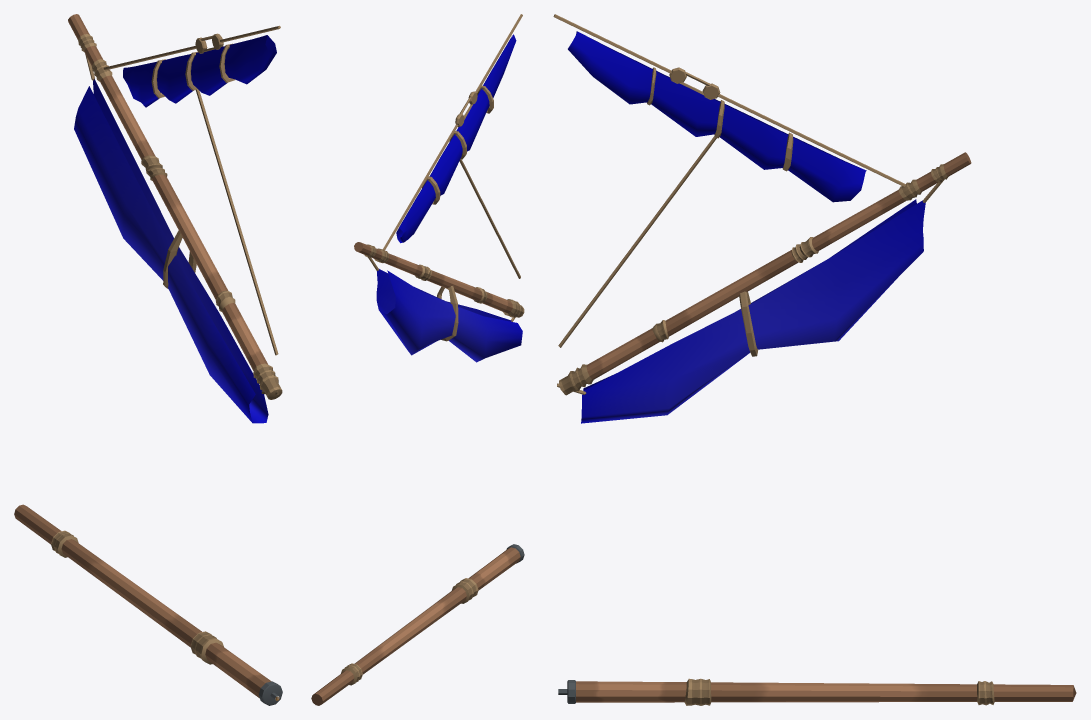
The model's file is SM_Veh_Ship_M_Mast_Back_01_Boom_Back_01_Tied_01.fbx.
3 views of the same model, side by side, from view 1: azimuth 30°, elevation 25°; view 2: azimuth 150°, elevation 25°; view 3: azimuth 270°, elevation 25° (orthographic). The views are drawn at different scales.
Parts seen in each view (by area): view 1: SM_Veh_Ship_M_Mast_Back_01_Boom_Back_01_Tied_01; view 2: SM_Veh_Ship_M_Mast_Back_01_Boom_Back_01_Tied_01; view 3: SM_Veh_Ship_M_Mast_Back_01_Boom_Back_01_Tied_01.
Boxes of the visible parts, x1,y1,x2,y2 form: SM_Veh_Ship_M_Mast_Back_01_Boom_Back_01_Tied_01: [14, 14, 282, 705]; SM_Veh_Ship_M_Mast_Back_01_Boom_Back_01_Tied_01: [311, 14, 524, 705]; SM_Veh_Ship_M_Mast_Back_01_Boom_Back_01_Tied_01: [553, 14, 1076, 705].
Bounding box in the file's own units: 111 × 2001 × 1375.
